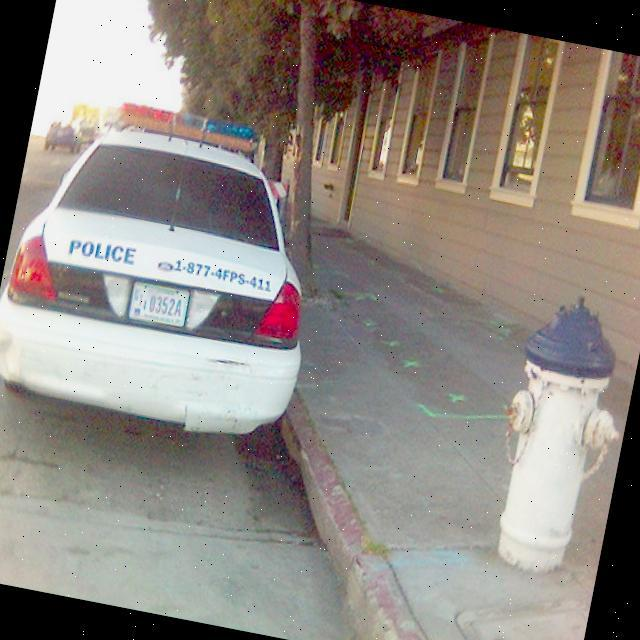fire_hydrant: (473, 283, 640, 592)
